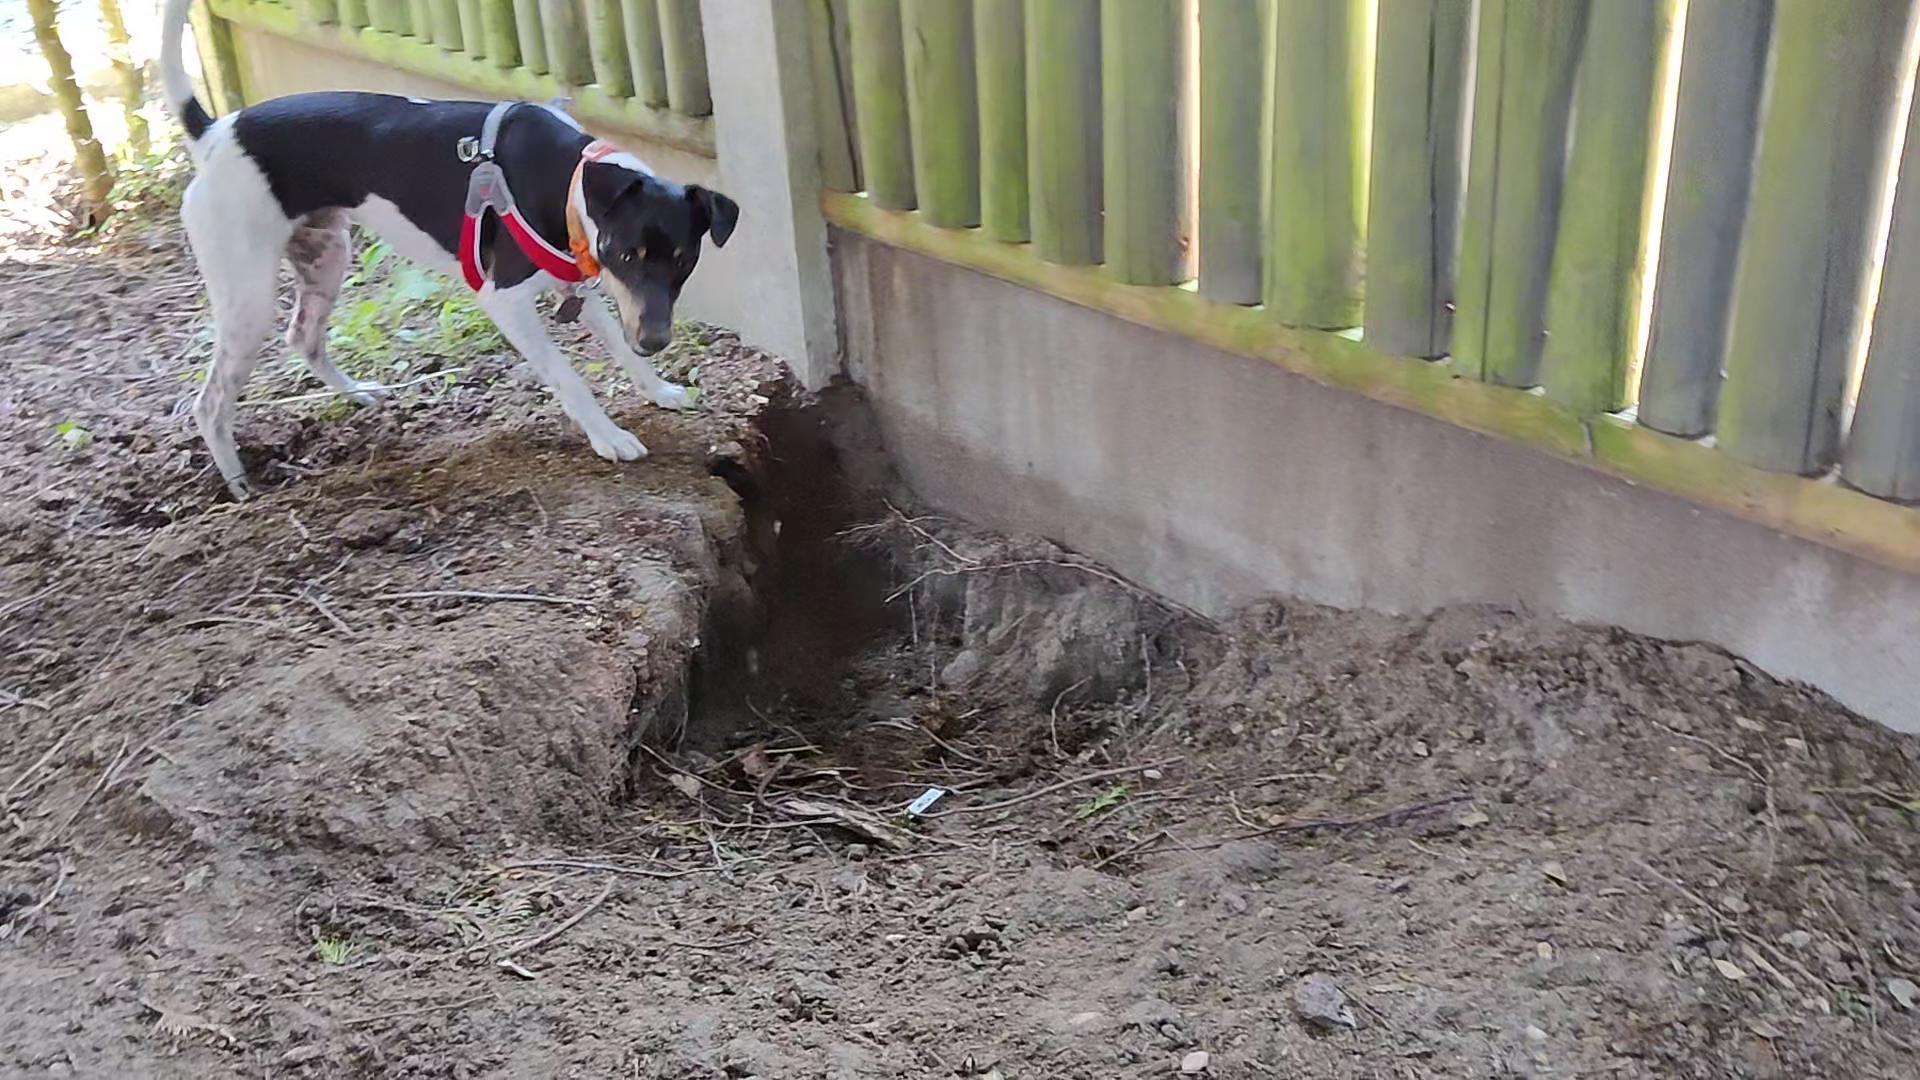Dog: (152, 0, 745, 508)
